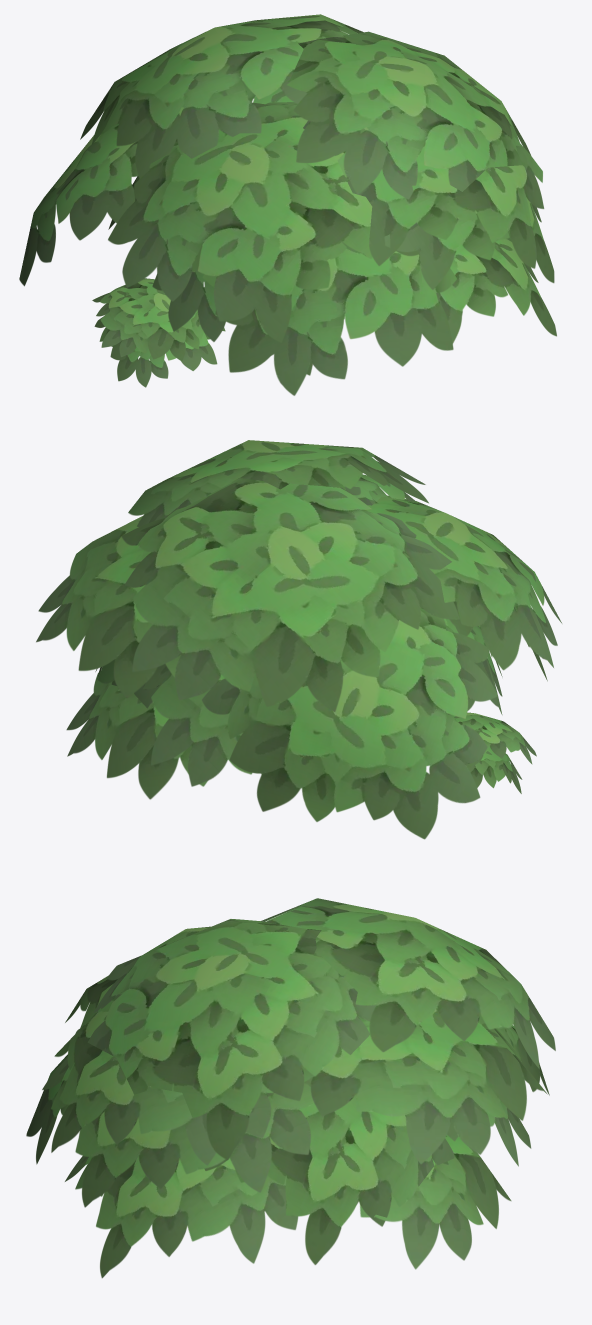
The model's file is bush.glb.
3 views of the same model, one above another, from view 1: azimuth 30°, elevation 25°; view 2: azimuth 150°, elevation 25°; view 3: azimuth 270°, elevation 25° (orthographic). The views are drawn at different scales.
Visible parts, largest first — view 1: Bush_Large; view 2: Bush_Large; view 3: Bush_Large.
Part boxes in pixels (x1=…): Bush_Large: x1=19, y1=14, x2=556, y2=395; Bush_Large: x1=36, y1=440, x2=562, y2=839; Bush_Large: x1=26, y1=898, x2=555, y2=1278.
Bounding box in the file's own units: 2.07 × 1.19 × 2.07.
Materials: 1 (1 with a texture image).
